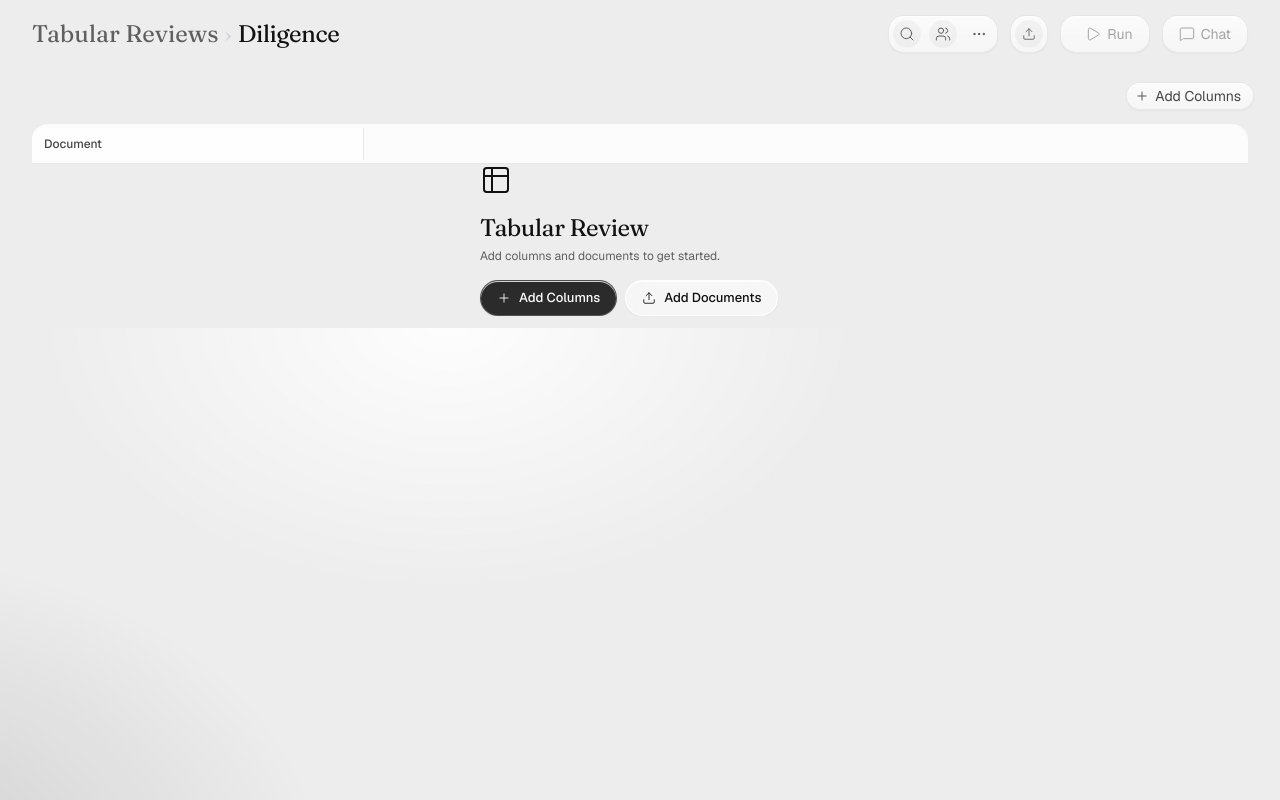
Test case: TabularReviewView Add Columns gating › refuses a viewer at the button instead of at the submit
Click the button "Add Columns" at (1190, 96), box top-left (1126, 82), bottom-right (1254, 110)
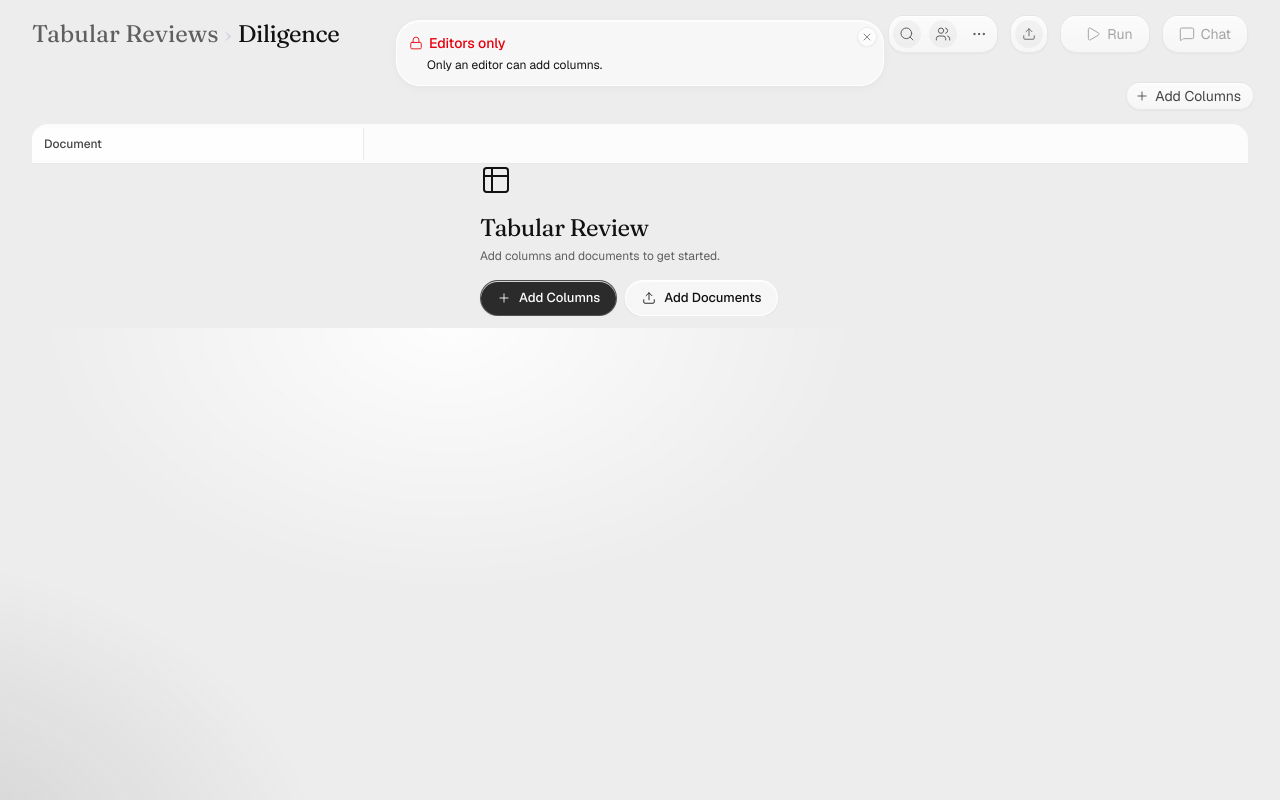
Expected: the text "Editors only" is shown, top-left (409, 34), bottom-right (506, 52)
Expected: the text "Only an editor can add columns." is shown, top-left (427, 57), bottom-right (602, 73)
